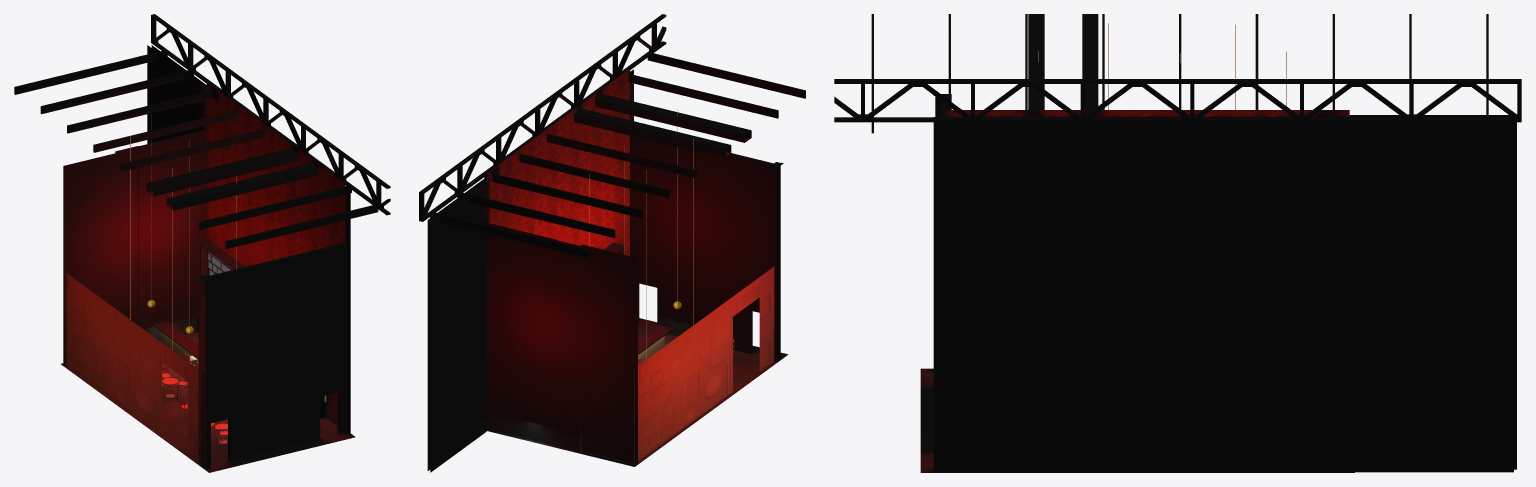
Rendered from Speakeasy_BAKED.fbx.
3 renders of one model, left to right at view 1: azimuth 30°, elevation 25°; view 2: azimuth 150°, elevation 25°; view 3: azimuth 270°, elevation 25°, orthographic. The views are drawn at different scales.
Visible parts, largest first — view 1: SpeakEasy_walls, SpeakEasy_rafters, SpeakEasy_brick_wall, SpeakEasy_paneled_wall, SpeakEasy_floor, SpeakEasy_bar_shelves, SpeakEasy_Bar_top, SpeakEasy_Table_and_Chairs, SpeakEasy_light_poles; view 2: SpeakEasy_walls, SpeakEasy_rafters, SpeakEasy_brick_wall, SpeakEasy_paneled_wall, SpeakEasy_floor, SpeakEasy_Bar_top, SpeakEasy_light_poles; view 3: SpeakEasy_walls, SpeakEasy_rafters, SpeakEasy_bar_shelves, SpeakEasy_brick_wall, SpeakEasy_floor.
Part boxes in pixels (<box>): SpeakEasy_walls: <box>63,45,350,469</box>; SpeakEasy_rafters: <box>14,14,390,249</box>; SpeakEasy_brick_wall: <box>206,82,345,425</box>; SpeakEasy_paneled_wall: <box>66,273,203,465</box>; SpeakEasy_floor: <box>61,332,355,472</box>; SpeakEasy_bar_shelves: <box>196,242,328,418</box>; SpeakEasy_Bar_top: <box>153,321,198,369</box>; SpeakEasy_Table_and_Chairs: <box>162,366,227,450</box>; SpeakEasy_light_poles: <box>130,114,236,349</box>; SpeakEasy_walls: <box>427,70,783,472</box>; SpeakEasy_rafters: <box>419,14,805,257</box>; SpeakEasy_brick_wall: <box>487,68,630,255</box>; SpeakEasy_paneled_wall: <box>633,266,774,464</box>; SpeakEasy_floor: <box>486,318,788,466</box>; SpeakEasy_Bar_top: <box>534,325,672,441</box>; SpeakEasy_light_poles: <box>589,109,693,359</box>; SpeakEasy_walls: <box>933,94,1516,472</box>; SpeakEasy_rafters: <box>834,14,1521,133</box>; SpeakEasy_bar_shelves: <box>994,339,1349,472</box>; SpeakEasy_brick_wall: <box>946,110,1349,116</box>; SpeakEasy_floor: <box>920,368,1354,472</box>.
Size of the model in its own units: 806 by 1381 by 2160.
